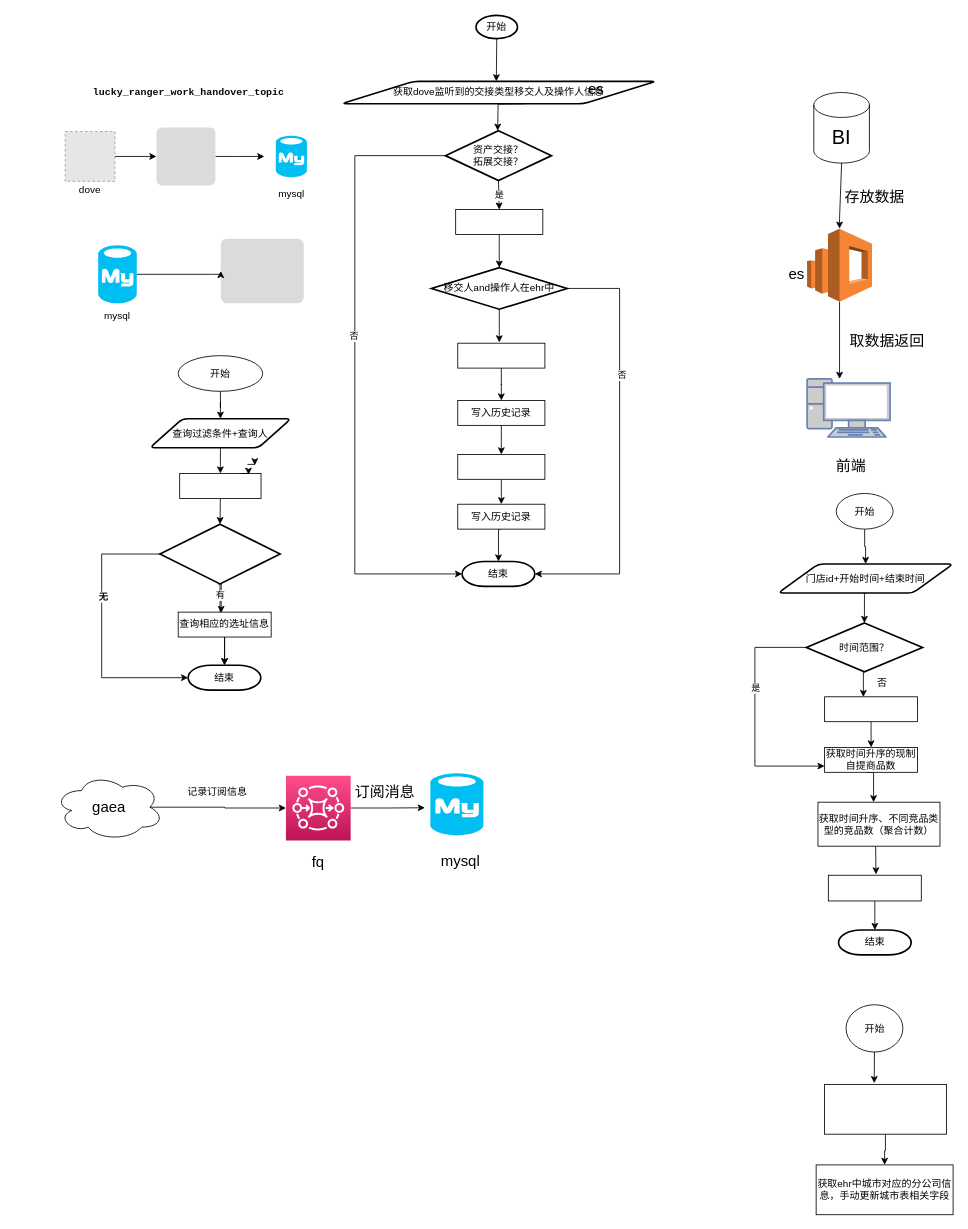
Image size: 968x1229. Some labels were removed from this diagram. Grey dashed boxes stand in for pictures. The shapes that lost their labels are listed below. From the top down, each one's centre as x and y in pixels, then its label:
At (x=185, y=156): "ehr(rpc)".
At (x=499, y=221): "获取ehr的员工信息".
At (x=261, y=270): "expansion(rpc)".
At (x=501, y=355): "更新拓展任务信息".
At (x=220, y=485): "通过ehr获取登录人的城市权限".
At (x=501, y=466): "更新选址项目信息".
At (x=220, y=553): "城市权限？".
At (x=871, y=709): "默认过去30天数据".
At (x=874, y=887): "封裝出参".
At (x=885, y=1109): "mysql中城市表添加分公司id和分公司名称".
